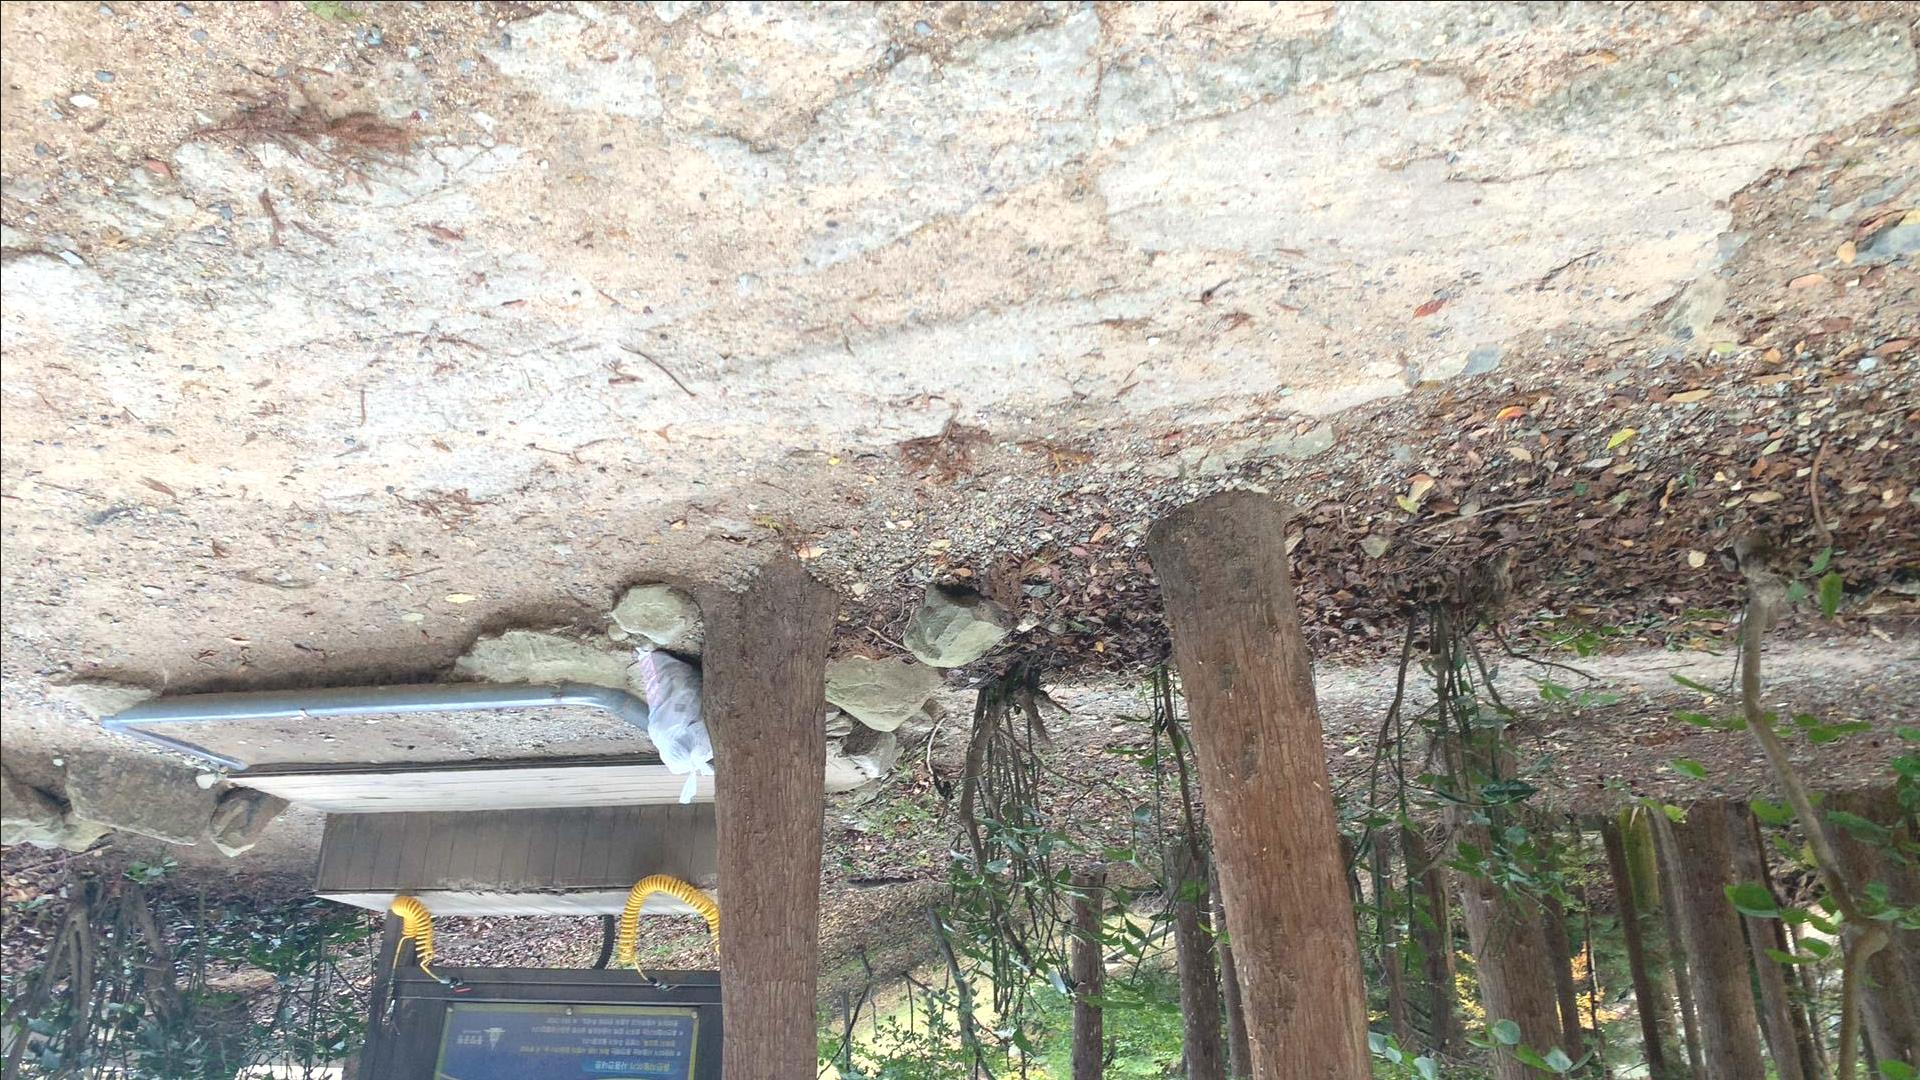white_bag: (628, 641, 731, 808)
